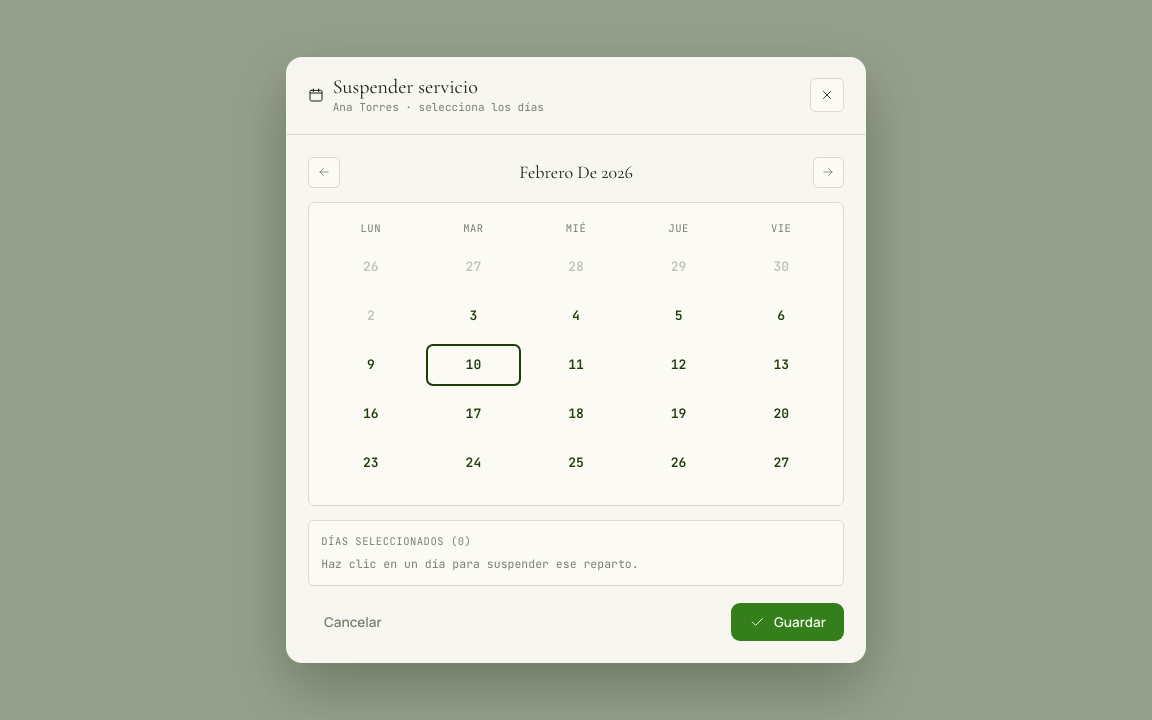
Test case: today marker › does not mark any cell as today when viewing a different month
This screenshot has width=1152, height=720.
Step 1. Click the button named "mes siguiente" → (828, 172), box [812,157,844,188]
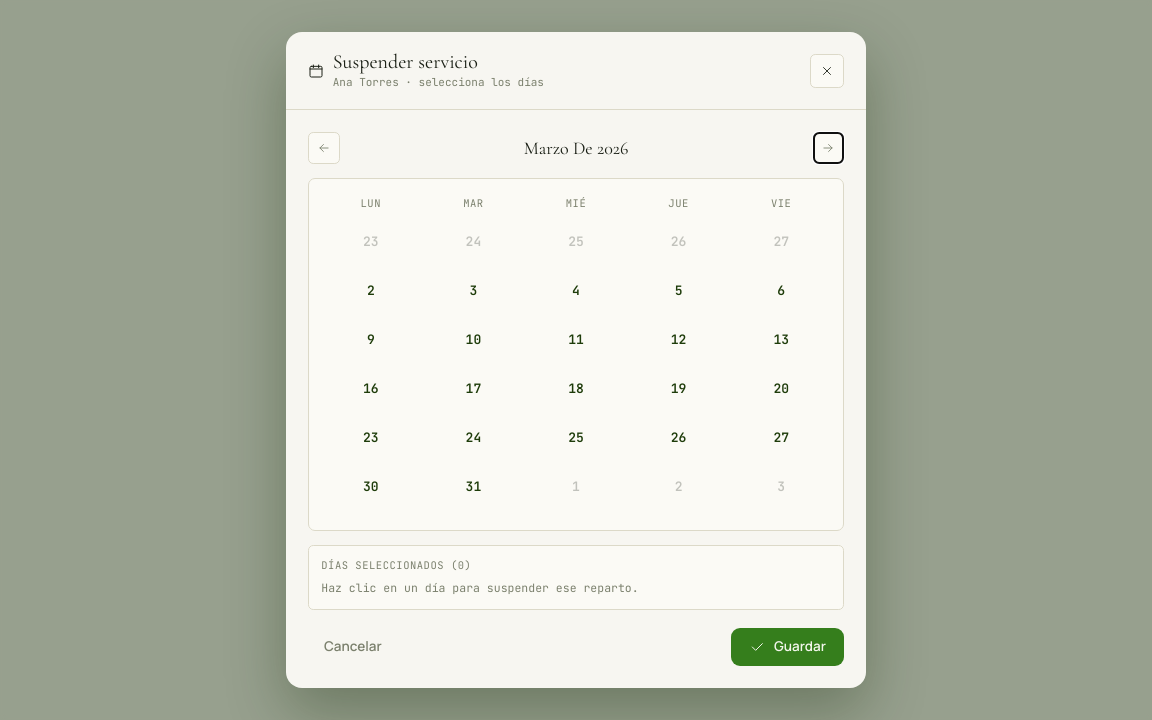
Check: the button with test id "calendar-day-today" is gone
